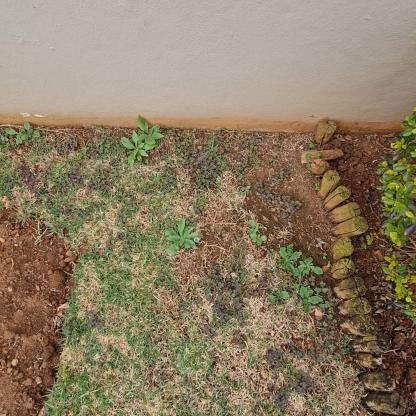Weeds: (163, 217, 203, 257), (120, 130, 155, 166), (136, 114, 164, 147), (278, 245, 300, 280), (299, 285, 323, 314), (298, 252, 324, 278), (22, 122, 41, 140), (269, 289, 288, 306), (7, 127, 24, 146), (248, 218, 264, 234), (251, 233, 267, 246)
